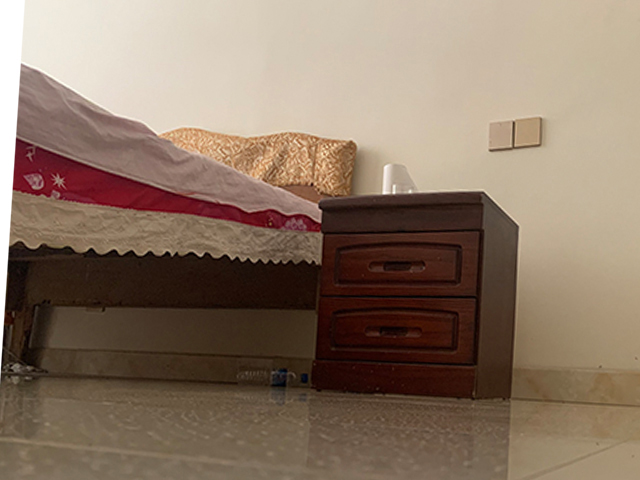bed: (12, 63, 356, 383)
cabinet: (311, 191, 519, 400)
